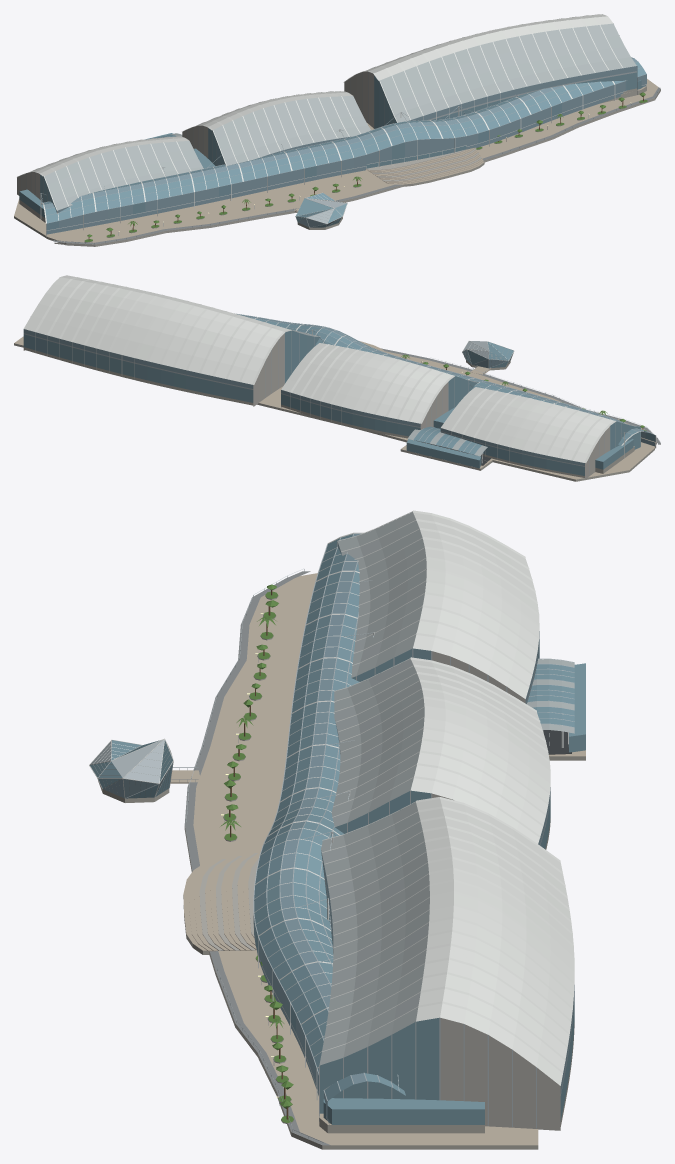
Rendered from sg-marina-bay-sands-podium.glb.
3 views of the same model, one above another, from view 1: azimuth 30°, elevation 25°; view 2: azimuth 150°, elevation 25°; view 3: azimuth 270°, elevation 25° (orthographic). The views are drawn at different scales.
Visible parts, largest first — view 1: The_Shoppes_Curved_Glass_Shell, South_Shoppes_Expo_Barrel_Roof, Bayfront_Promenade_and_Podium_Base, Casino_Barrel_Roof, Sands_Theatres_Barrel_Roof, The_Shoppes_Steel_Arches_and_Masts, Event_Plaza_Stepped_Terraces, South_Shoppes_Expo_Barrel_Roof_Seams, North_Crystal_Pavilion, Casino_Barrel_Roof_Seams, Waterfront_Planting_and_Promenade_Lights, Sands_Theatres_Barrel_Roof_Seams (+1 smaller); view 2: South_Shoppes_Expo_Barrel_Roof, Casino_Barrel_Roof, Sands_Theatres_Barrel_Roof, South_Shoppes_Expo_Barrel_Roof_Seams, Bayfront_Promenade_and_Podium_Base, The_Shoppes_Curved_Glass_Shell, Casino_Barrel_Roof_Seams, Sands_Theatres_Barrel_Roof_Seams, The_Shoppes_Steel_Arches_and_Masts, North_Crystal_Pavilion, Bayfront_Avenue_Porte_Cochere, Bayfront_Avenue_Glazed_Entrance (+2 smaller); view 3: South_Shoppes_Expo_Barrel_Roof, Bayfront_Promenade_and_Podium_Base, The_Shoppes_Curved_Glass_Shell, Casino_Barrel_Roof, Sands_Theatres_Barrel_Roof, South_Shoppes_Expo_Barrel_Roof_Seams, The_Shoppes_Steel_Arches_and_Masts, Event_Plaza_Stepped_Terraces, Casino_Barrel_Roof_Seams, Retail_Stone_Platform_and_Glazed_Frontage, Sands_Theatres_Barrel_Roof_Seams, North_Crystal_Pavilion (+4 smaller).
Part boxes in pixels (x1,y1,x2,y2): The_Shoppes_Curved_Glass_Shell: (41,57,646,234); South_Shoppes_Expo_Barrel_Roof: (344,14,636,128); Bayfront_Promenade_and_Podium_Base: (14,79,660,246); Casino_Barrel_Roof: (182,91,370,165); Sands_Theatres_Barrel_Roof: (17,136,203,212); The_Shoppes_Steel_Arches_and_Masts: (40,58,646,236); Event_Plaza_Stepped_Terraces: (366,146,484,186); South_Shoppes_Expo_Barrel_Roof_Seams: (343,15,637,128); North_Crystal_Pavilion: (295,193,346,229); Casino_Barrel_Roof_Seams: (182,91,360,165); Waterfront_Planting_and_Promenade_Lights: (84,92,647,242); Sands_Theatres_Barrel_Roof_Seams: (17,137,191,213); South_Shoppes_Expo_Barrel_Roof: (23,275,320,406); Casino_Barrel_Roof: (281,343,478,438); Sands_Theatres_Barrel_Roof: (440,387,640,479); South_Shoppes_Expo_Barrel_Roof_Seams: (34,277,320,397); Bayfront_Promenade_and_Podium_Base: (14,336,660,481); The_Shoppes_Curved_Glass_Shell: (237,314,655,446); Casino_Barrel_Roof_Seams: (290,344,478,427); Sands_Theatres_Barrel_Roof_Seams: (450,388,640,475); The_Shoppes_Steel_Arches_and_Masts: (234,313,656,458); North_Crystal_Pavilion: (462,341,513,370); Bayfront_Avenue_Porte_Cochere: (407,426,490,465); Bayfront_Avenue_Glazed_Entrance: (406,439,481,468); South_Shoppes_Expo_Barrel_Roof: (319,799,574,1130); Bayfront_Promenade_and_Podium_Base: (184,568,585,1149); The_Shoppes_Curved_Glass_Shell: (253,533,405,1124); Casino_Barrel_Roof: (331,659,550,849); Sands_Theatres_Barrel_Roof: (337,512,539,703); South_Shoppes_Expo_Barrel_Roof_Seams: (319,797,574,1128); The_Shoppes_Steel_Arches_and_Masts: (253,532,399,1100); Event_Plaza_Stepped_Terraces: (183,852,260,954); Casino_Barrel_Roof_Seams: (332,657,550,837); Retail_Stone_Platform_and_Glazed_Frontage: (319,1098,484,1133); Sands_Theatres_Barrel_Roof_Seams: (337,510,539,692); North_Crystal_Pavilion: (90,740,172,802).
Bounding box in the file's own units: 487 × 49.93 × 177.
